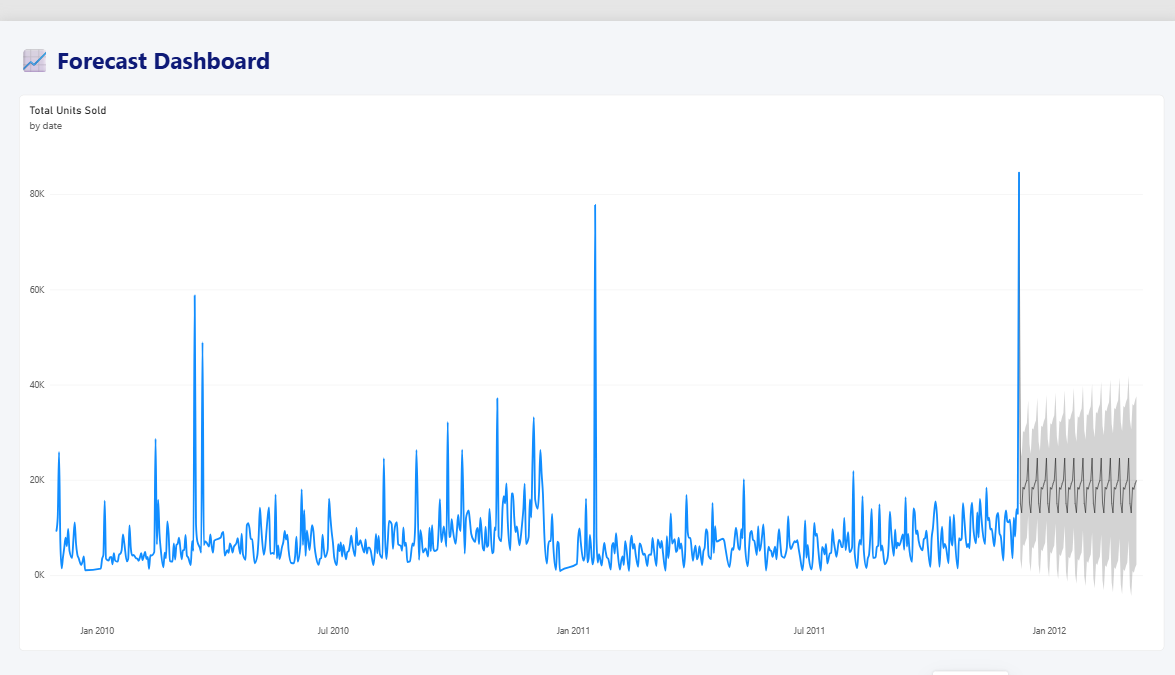

What the dashboard file says about the page in this screenshot:
{"tool":"powerbi","page":{"name":"Forecast","canvas":[1920,1080],"ordinal":9},"visuals":[{"type":"lineChart","fields":{"Category":["calendar.date"],"Y":["_Measures.Total Units Sold"]},"box":[33.4,118.9,1860,902.9],"z":0},{"type":"textbox","box":[32.5,38.6,448.6,81.2],"z":1000}]}

Visuals, with their boxes in screenshot pixels (x1, y1, x2, y2), scaled from the page's 1920x1080 canvas onto the 1175x675 screenshot:
lineChart - calendar.date x _Measures.Total Units Sold: [left=20, top=74, right=1159, bottom=639]
textbox: [left=20, top=24, right=294, bottom=75]
